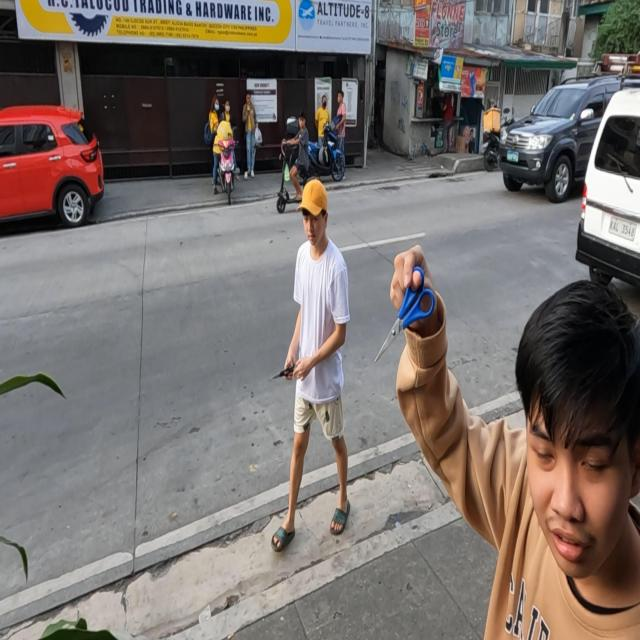scissor: (374, 266, 434, 364), (270, 362, 296, 379)
